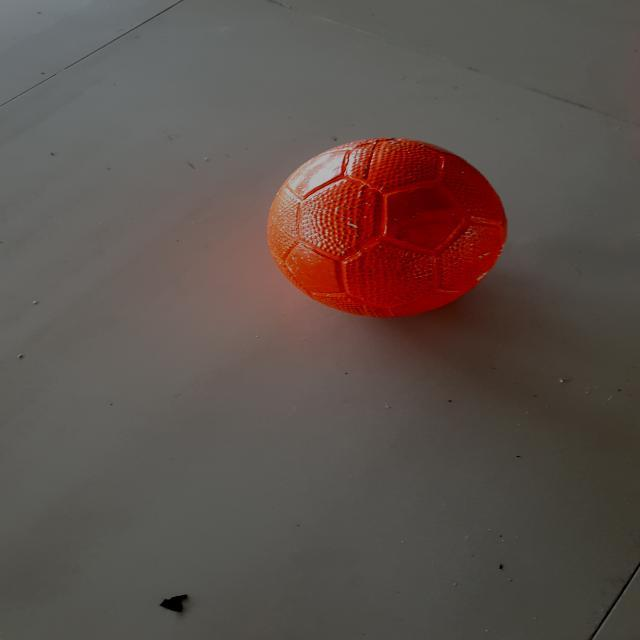bola: (229, 124, 519, 321)
